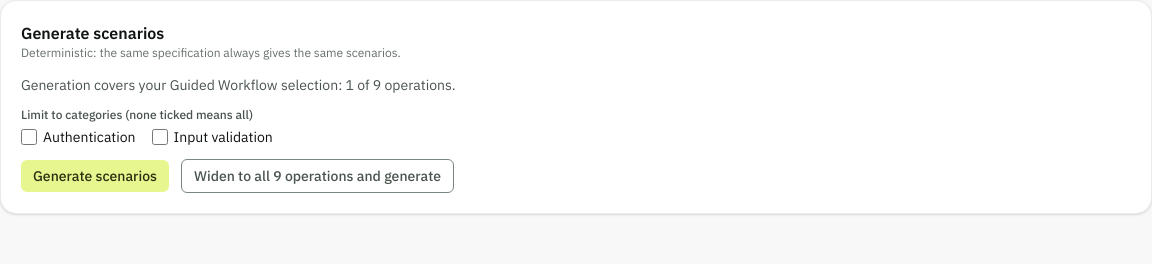
Test: ScopeBanner (T075, FR-004, FR-018) › generates for the scope shown, reports what happened as text and asks for the list to be read again
Click the button "Generate scenarios".
click(95, 176)  # box [21,160,169,192]
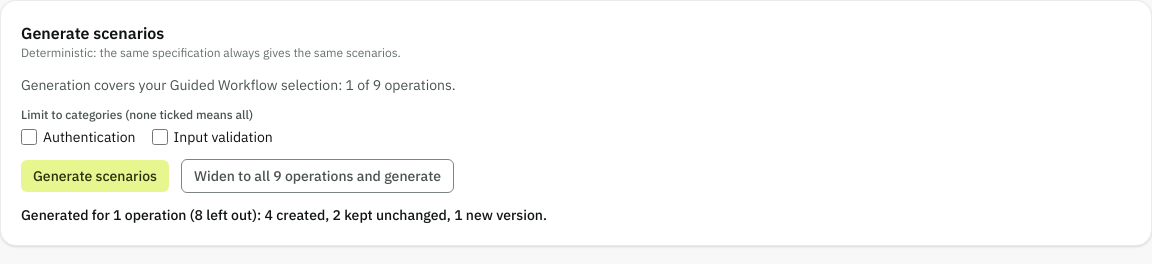
Now the message shows "Generated for 1 operation (8 left out): 4 created, 2 kept unchanged, 1 new version.", box [21,206,547,224]
